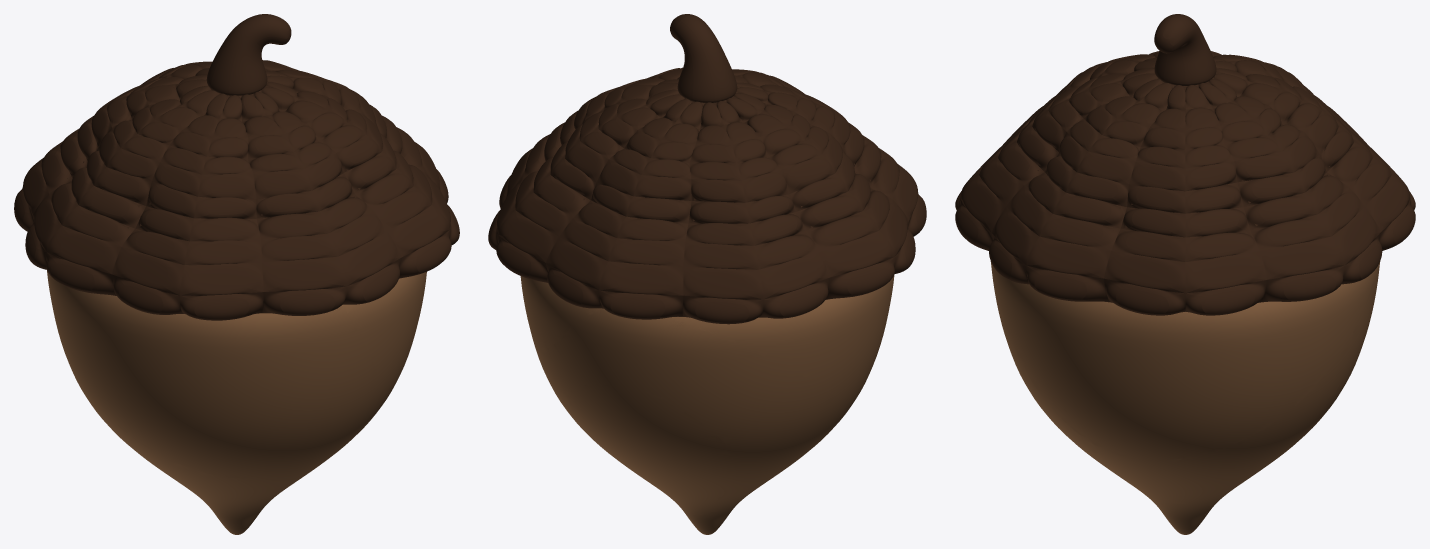
The model's file is Acorn_Broken.glb.
The picture shows the model from 3 angles, left to right: view 1: azimuth 30°, elevation 25°; view 2: azimuth 150°, elevation 25°; view 3: azimuth 270°, elevation 25°; orthographic projection. The views are drawn at different scales.
Parts seen in each view (by area): view 1: Material_001-material.001, Light_Brown-material, Light_Brown-material_cell.002, Material_001-material.002, Light_Brown-material_cell.004, Light_Brown-material_cell.003, Material_001-material.002_cell.008, Material_001-material.002_cell.207, Material_001-material.002_cell.077, Material_001-material.002_cell.206; view 2: Material_001-material.001, Light_Brown-material, Material_001-material.002, Light_Brown-material_cell.004, Light_Brown-material_cell.006, Light_Brown-material_cell.002, Light_Brown-material_cell.003, Material_001-material.002_cell.137, Material_001-material.002_cell.167, Material_001-material.002_cell.168, Material_001-material.002_cell.007; view 3: Material_001-material.001, Light_Brown-material, Light_Brown-material_cell.003, Material_001-material.002, Light_Brown-material_cell.004, Material_001-material.002_cell.011, Material_001-material.002_cell.008, Material_001-material.002_cell.137, Light_Brown-material_cell.002, Material_001-material.002_cell.251, Material_001-material.002_cell.250, Material_001-material.002_cell.002.
Part boxes in pixels (bbox=[...]): Material_001-material.001: bbox=[14, 60, 459, 320]; Light_Brown-material: bbox=[47, 270, 425, 534]; Light_Brown-material_cell.002: bbox=[47, 274, 383, 479]; Material_001-material.002: bbox=[30, 14, 449, 295]; Light_Brown-material_cell.004: bbox=[69, 363, 337, 520]; Light_Brown-material_cell.003: bbox=[342, 272, 426, 405]; Material_001-material.002_cell.008: bbox=[232, 22, 291, 91]; Material_001-material.002_cell.207: bbox=[262, 257, 345, 291]; Material_001-material.002_cell.077: bbox=[113, 247, 184, 292]; Material_001-material.002_cell.206: bbox=[388, 210, 448, 255]; Material_001-material.001: bbox=[488, 67, 926, 324]; Light_Brown-material: bbox=[520, 276, 893, 534]; Material_001-material.002: bbox=[497, 14, 918, 299]; Light_Brown-material_cell.004: bbox=[541, 309, 847, 511]; Light_Brown-material_cell.006: bbox=[569, 384, 734, 514]; Light_Brown-material_cell.002: bbox=[671, 275, 894, 411]; Light_Brown-material_cell.003: bbox=[521, 276, 599, 366]; Material_001-material.002_cell.137: bbox=[546, 237, 606, 289]; Material_001-material.002_cell.167: bbox=[683, 267, 762, 299]; Material_001-material.002_cell.168: bbox=[821, 236, 888, 276]; Material_001-material.002_cell.007: bbox=[694, 45, 736, 100]; Material_001-material.001: bbox=[955, 51, 1415, 315]; Light_Brown-material: bbox=[991, 262, 1379, 534]; Light_Brown-material_cell.003: bbox=[992, 265, 1371, 459]; Material_001-material.002: bbox=[961, 14, 1409, 293]; Light_Brown-material_cell.004: bbox=[1084, 269, 1379, 505]; Material_001-material.002_cell.011: bbox=[1104, 251, 1163, 286]; Material_001-material.002_cell.008: bbox=[1154, 20, 1200, 83]; Material_001-material.002_cell.137: bbox=[1366, 175, 1410, 231]; Light_Brown-material_cell.002: bbox=[991, 262, 1100, 453]; Material_001-material.002_cell.251: bbox=[1260, 241, 1308, 279]; Material_001-material.002_cell.250: bbox=[1244, 193, 1316, 229]; Material_001-material.002_cell.002: bbox=[1302, 237, 1343, 271].
Size of the model in its own units: 1.89 by 2.39 by 1.89.
